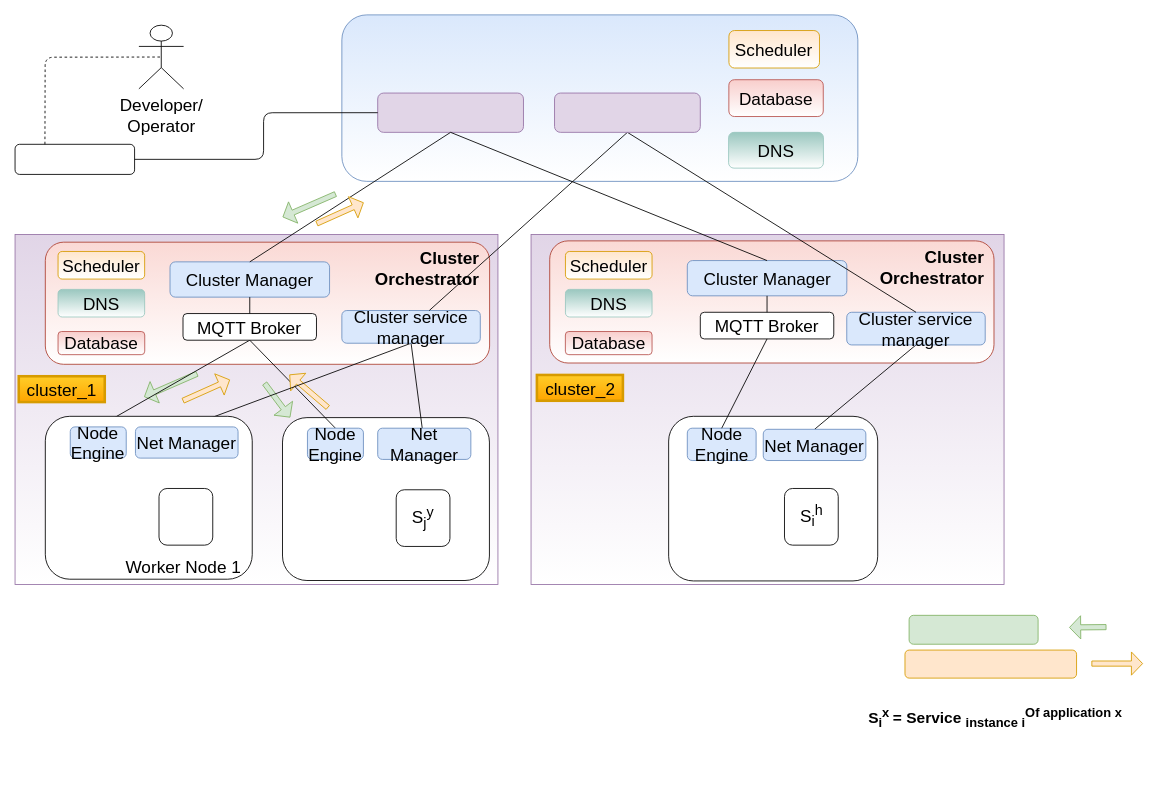
The diagram is 1158 pixels wide and 796 high, and some of its shapes have lost their labels. The shapes that lost their labels are listed below. From the top down, each one's box as (x1, y1, x2, y2) in pixels, then its label:
(377, 92, 523, 132): System Manager
(341, 14, 858, 181): Root Orchestrator
(554, 92, 700, 132): Root service manager
(14, 143, 135, 174): CLI
(158, 488, 213, 545): S i y
(282, 417, 489, 580): Worker Node n
(668, 415, 878, 581): Worker Node
(908, 614, 1038, 644): Control Channel
(904, 649, 1077, 678): Information Channel
